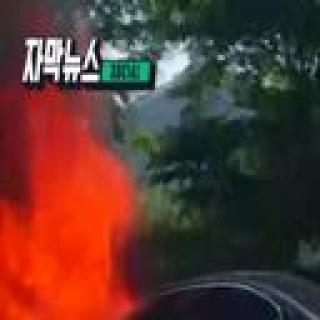fire: (0, 84, 141, 320)
